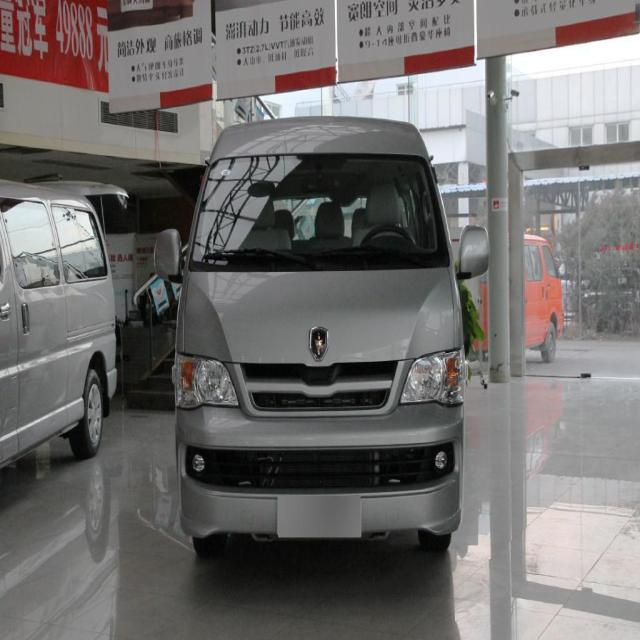front_bumper: (174, 466, 464, 539)
front_glass: (188, 150, 450, 274)
front_left_side_light: (396, 344, 469, 408)
front_left_side_mirror: (455, 223, 490, 282)
front_right_side_light: (170, 349, 238, 412)
front_right_side_mirror: (152, 229, 182, 284)
